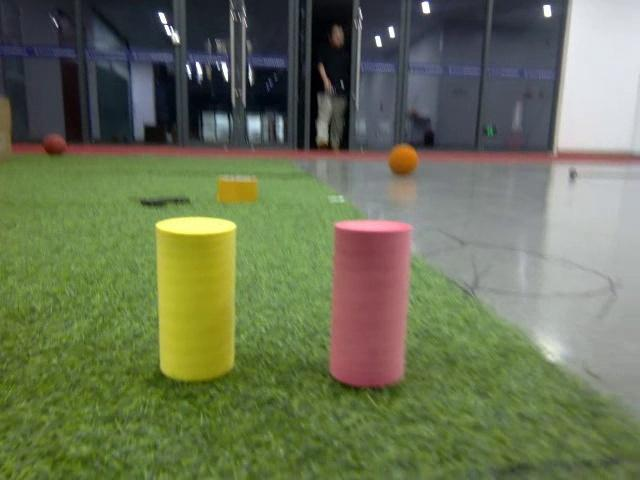orange_ball: (387, 144, 417, 178)
red_ball: (44, 131, 66, 158)
red_cylinder: (328, 214, 410, 390)
yellow_cylinder: (150, 211, 238, 382)
